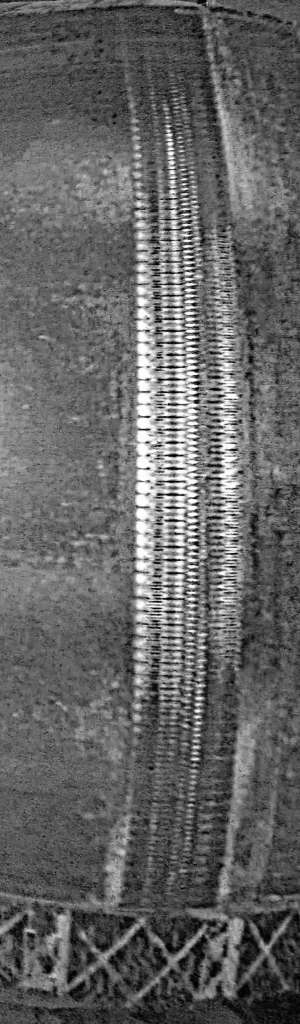splice: (107, 5, 243, 913)
